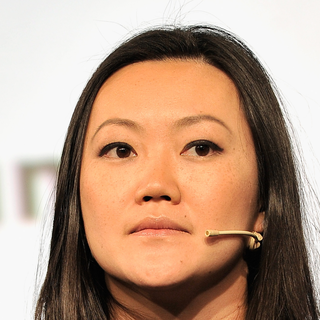eye: (176, 136, 226, 162), (94, 140, 141, 163)
